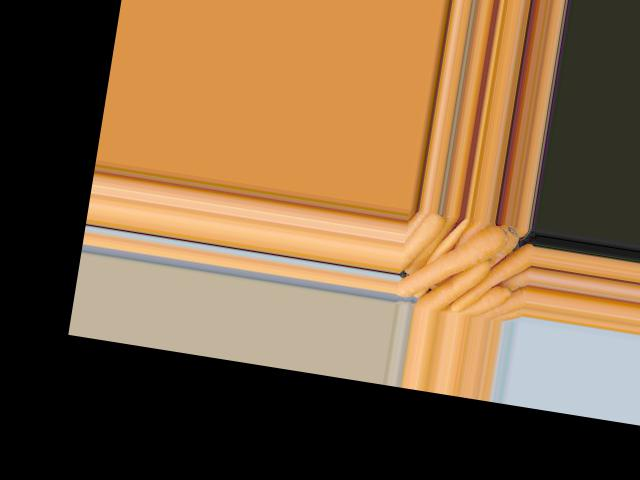carrot: (453, 241, 533, 320)
